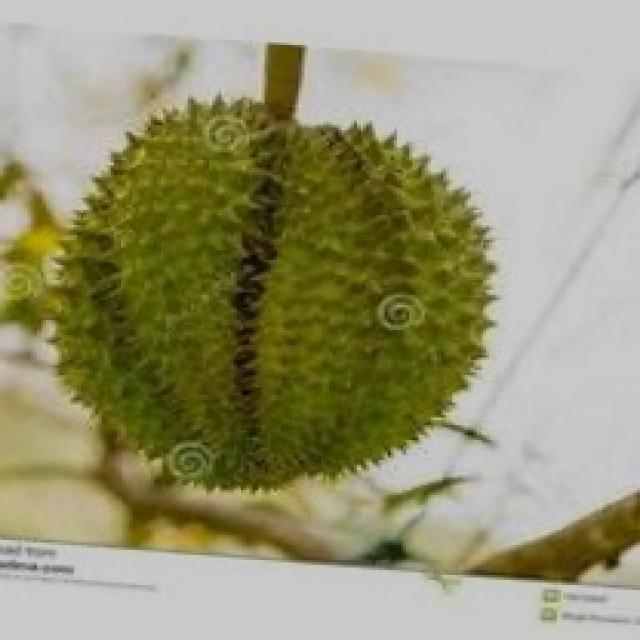fruit: (215, 92, 548, 518), (6, 140, 314, 520)
